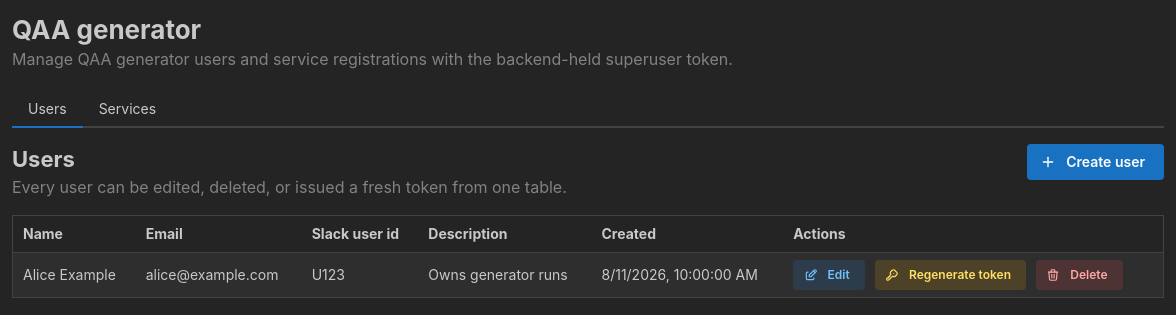
Test: QAA generator AdminPanel › requests kind=service on the Services tab and renders the token id column
The image size is (1176, 315).
Expected: the text "Alice Example" is shown, [12,253,136,298]
Step 1. Click the tab "Services" → x=127, y=110, box [83,92,172,128]
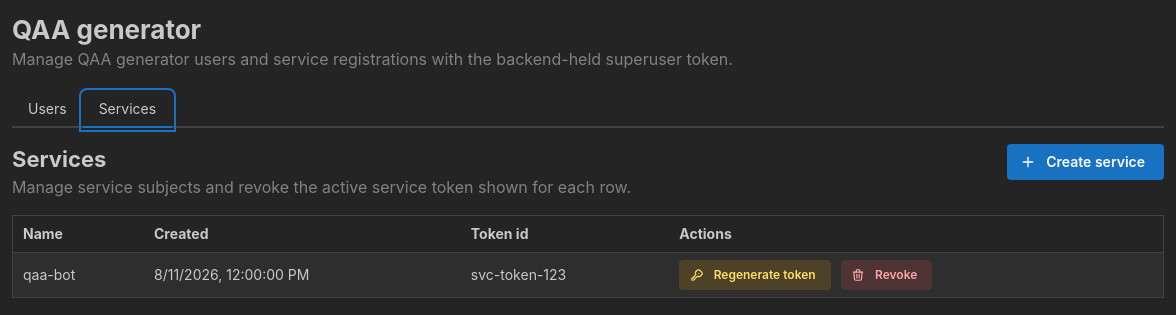
Result: the text "qaa-bot" is shown at [12,253,144,298]
Result: the text "svc-token-123" is shown at [461,253,669,298]
